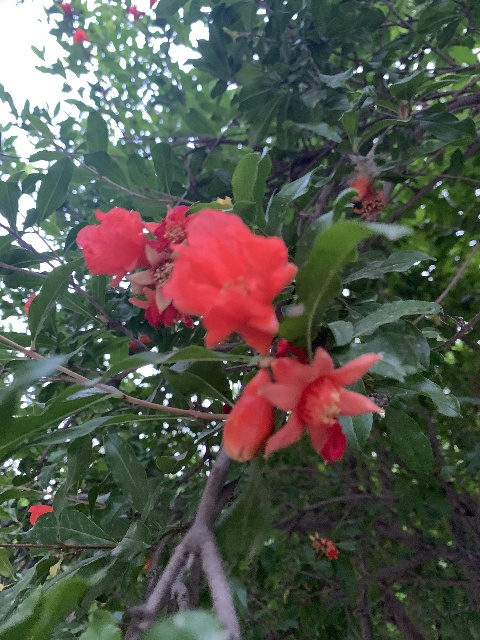bud: (222, 370, 274, 462)
early-fruit: (308, 531, 328, 553)
flower: (163, 209, 296, 356), (257, 345, 383, 464), (76, 206, 154, 287), (128, 289, 193, 328), (143, 203, 192, 253), (126, 4, 145, 21), (73, 27, 90, 44), (325, 541, 339, 560)
